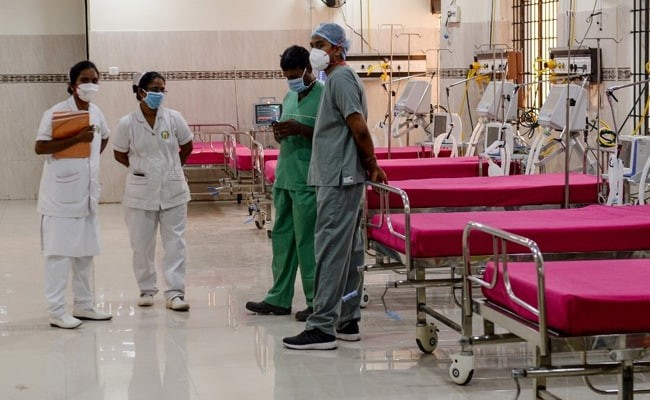with_mask: (72, 75, 100, 105), (139, 85, 170, 112), (308, 35, 331, 71), (284, 72, 312, 92)
